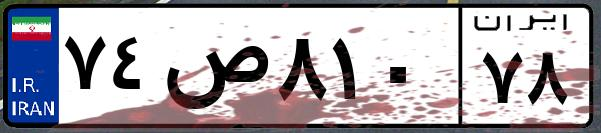0: (385, 28, 445, 110)
1: (330, 28, 385, 110)
4: (110, 28, 158, 98)
7: (57, 26, 110, 100), (475, 38, 525, 113)
8: (270, 28, 330, 110), (525, 38, 570, 115)
ص: (158, 20, 270, 120)
